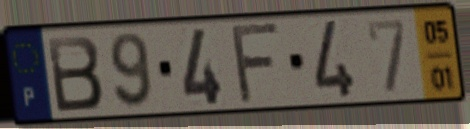4: (179, 24, 226, 109), (312, 17, 358, 102)
7: (363, 15, 409, 97)
9: (110, 29, 156, 111)
B: (44, 33, 106, 115)
F: (230, 20, 285, 108)
